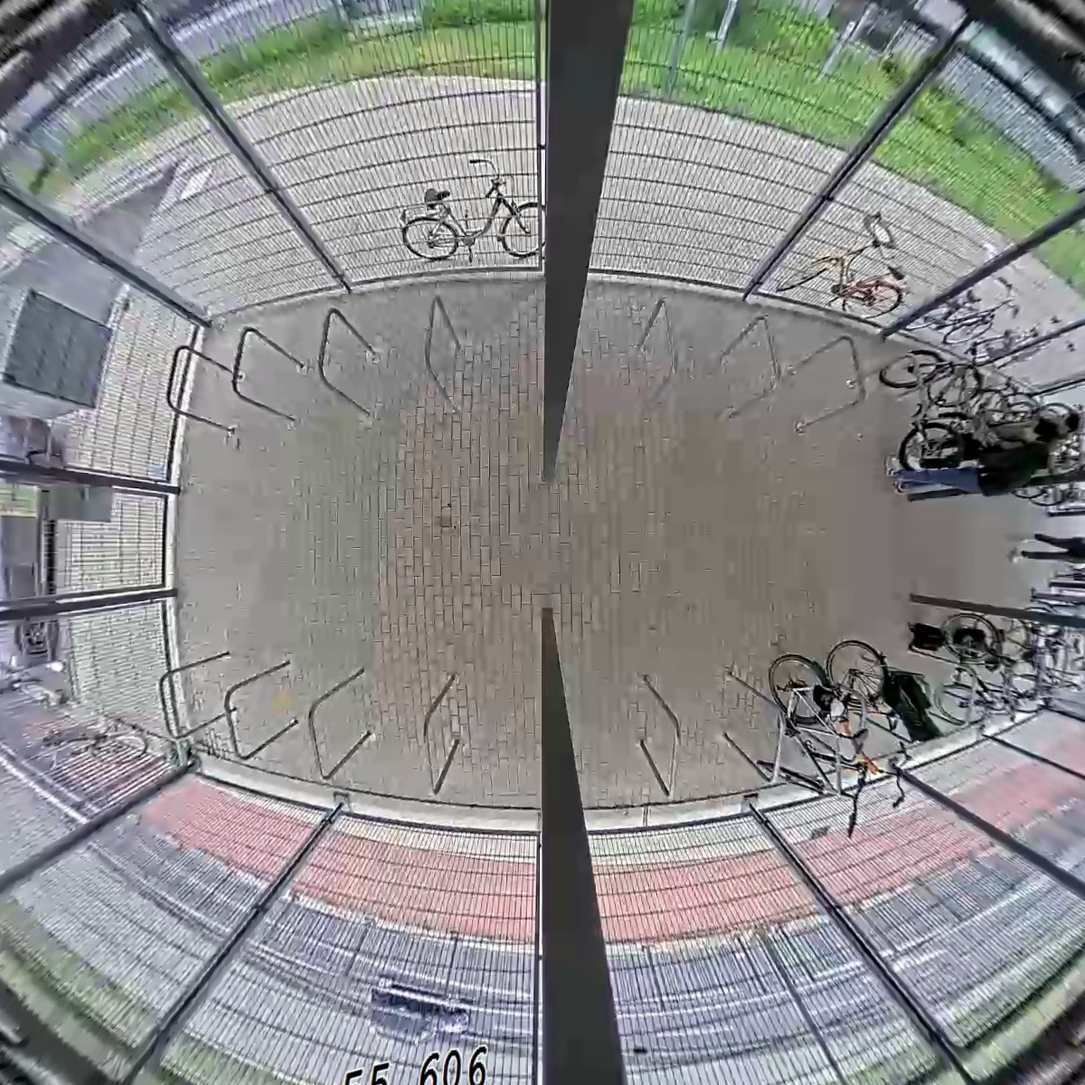bicylce: (759, 649, 873, 801), (872, 347, 982, 491), (805, 637, 895, 783), (933, 605, 1012, 741), (970, 597, 1037, 738)
saddle: (845, 721, 872, 755), (884, 705, 901, 737), (1066, 629, 1085, 655), (1020, 646, 1037, 673), (1048, 643, 1061, 669)
